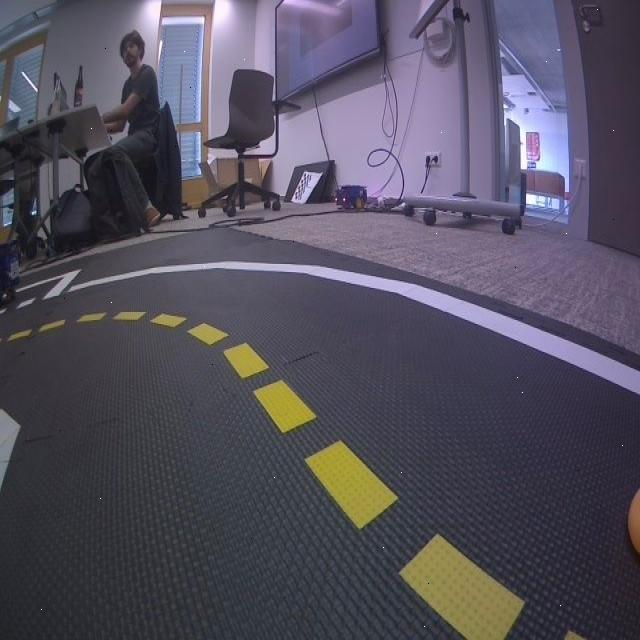duckie: (627, 486, 639, 560)
park: (0, 270, 81, 314)
